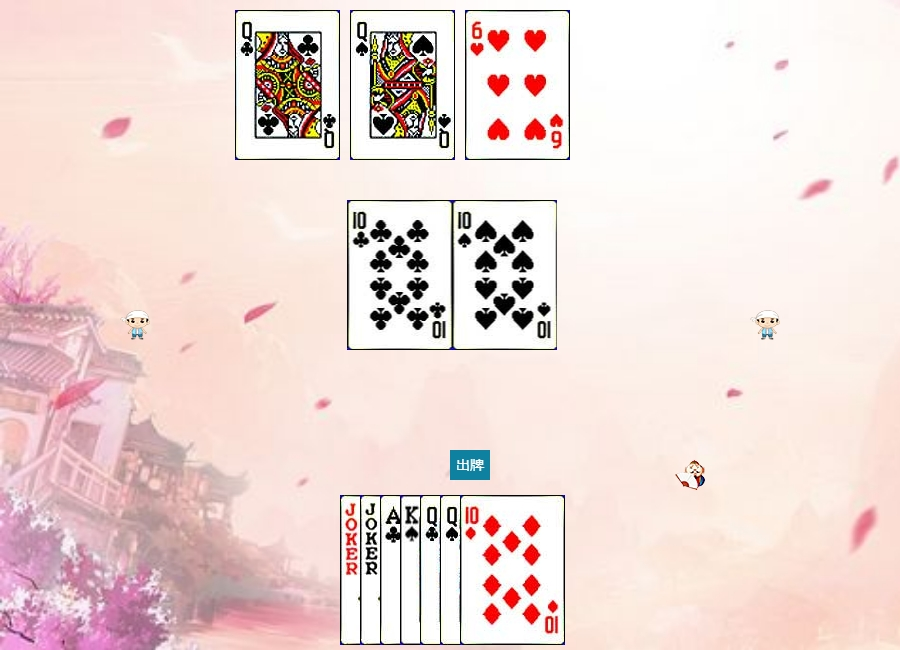10~1: (460, 495, 565, 645)
10~2: (348, 200, 453, 350)
10~4: (453, 200, 558, 350)
12~2: (235, 10, 340, 160), (420, 495, 525, 645)
12~4: (350, 10, 455, 160), (440, 495, 545, 645)
13~4: (400, 495, 505, 645)
14~2: (380, 495, 485, 645)
17~3: (360, 495, 465, 645)
18~4: (340, 495, 445, 645)
6~3: (465, 10, 570, 160)
